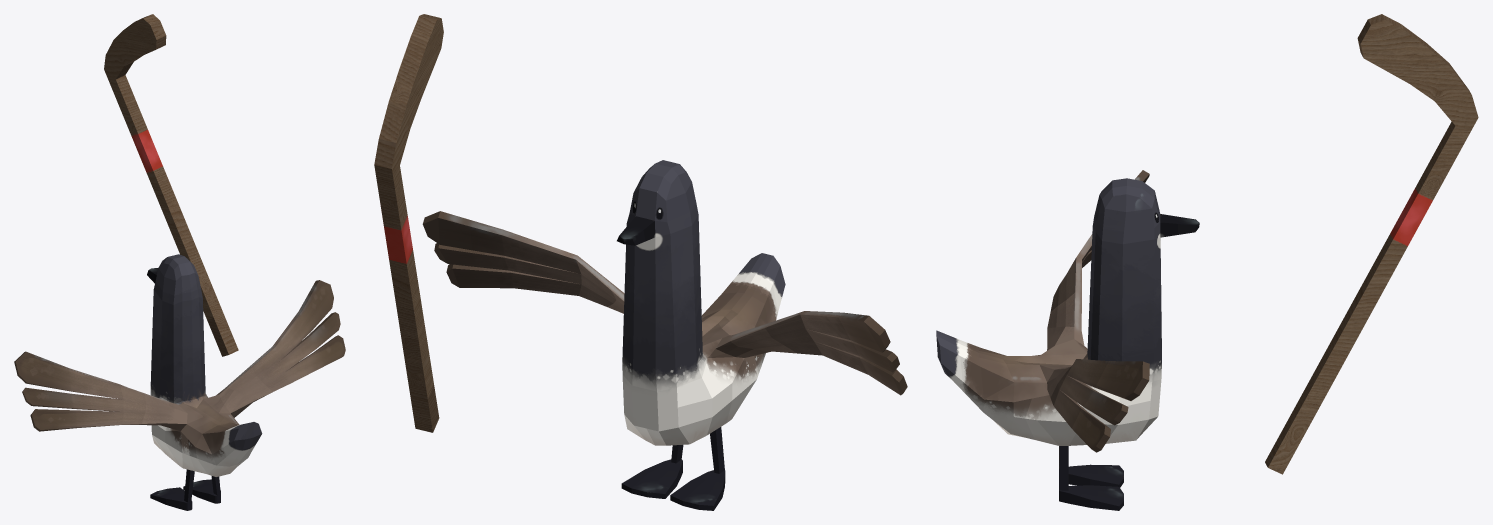
File: goose1 (1).obj
The picture shows the model from 3 angles, left to right: view 1: azimuth 30°, elevation 25°; view 2: azimuth 150°, elevation 25°; view 3: azimuth 270°, elevation 25°; orthographic projection. The views are drawn at different scales.
Visible parts, largest first — view 1: Cube; view 2: Cube; view 3: Cube.
Part boxes in pixels (x1,y1,x2,y2): Cube: (14,14,345,510); Cube: (374,14,907,510); Cube: (936,14,1478,510).
Bounding box in the file's own units: 13.82 × 16.15 × 15.36.
